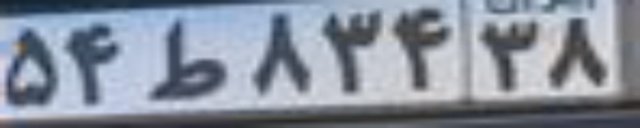3: (321, 9, 383, 95), (477, 17, 542, 91)
4: (390, 6, 448, 91), (68, 23, 118, 105)
5: (4, 26, 57, 106)
8: (248, 12, 314, 96), (546, 16, 608, 89)
taa: (146, 19, 229, 99)
